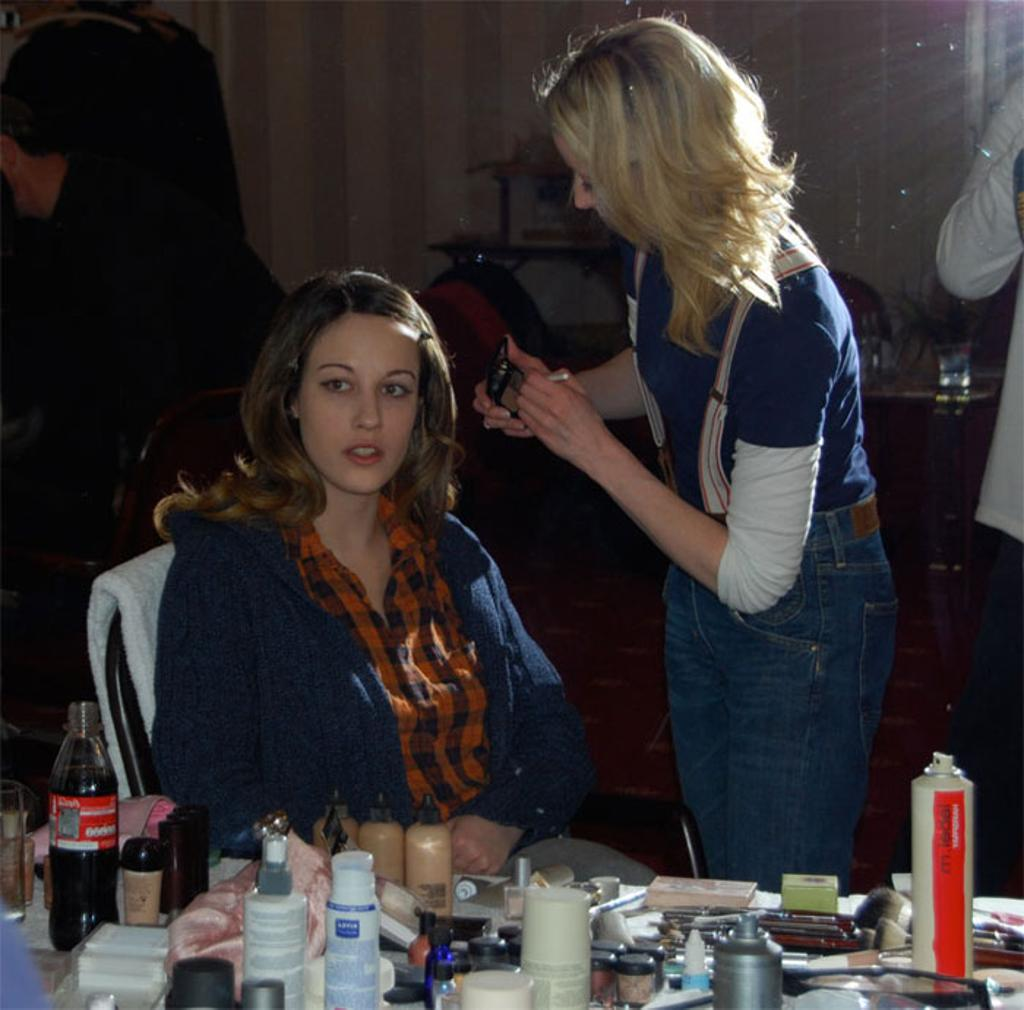face: (300, 316, 418, 492), (564, 104, 664, 252)
